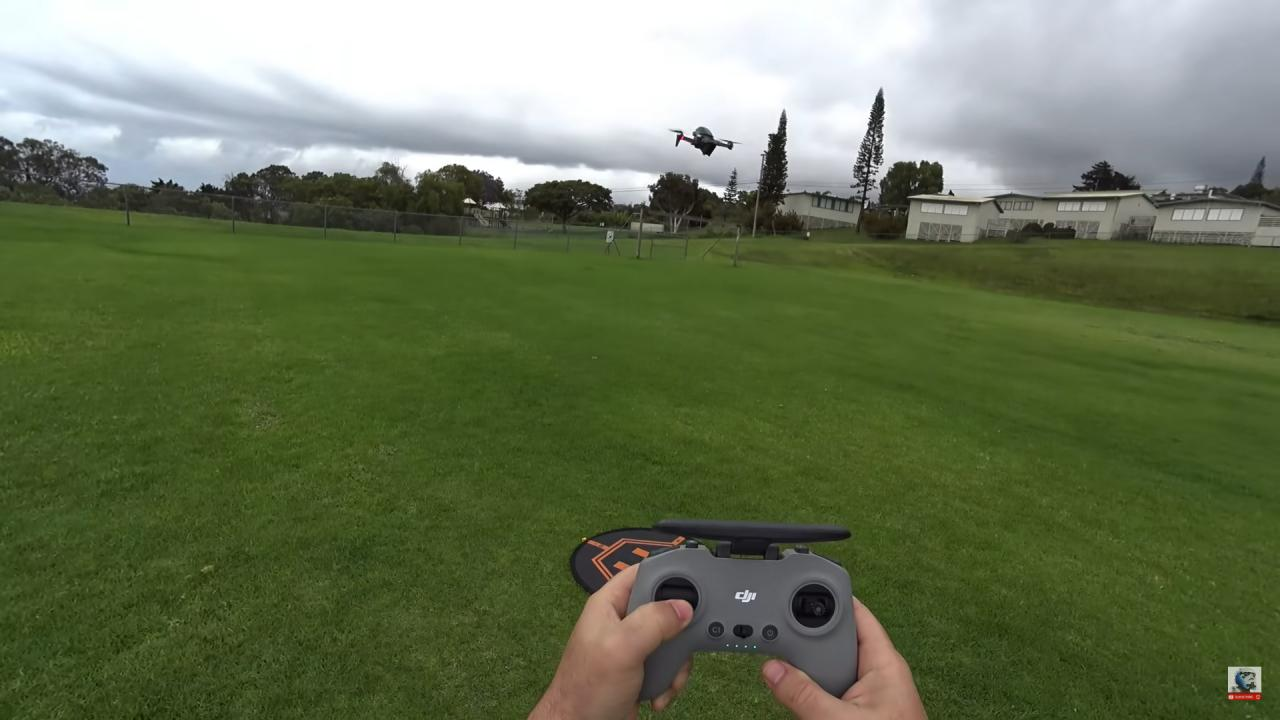Drone: (662, 118, 741, 162)
